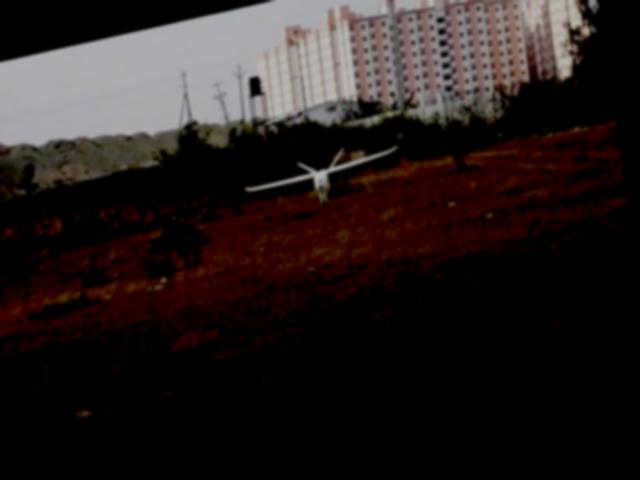iha: (235, 127, 413, 218)
